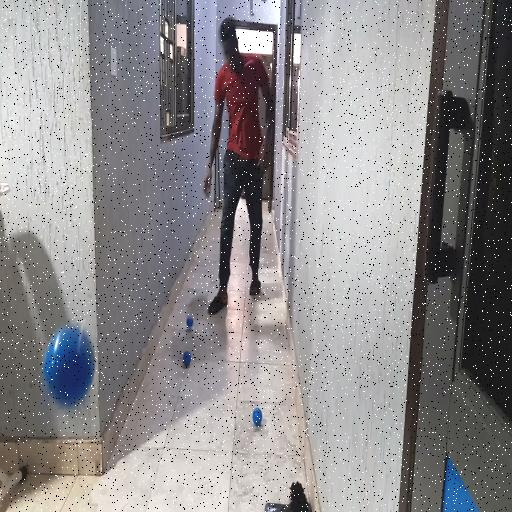plastic-ball: (44, 325, 97, 411)
